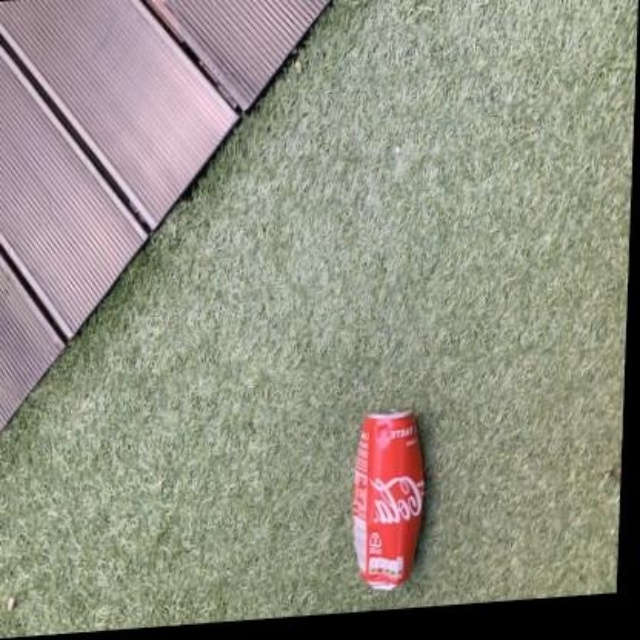trash: (352, 411, 423, 588)
